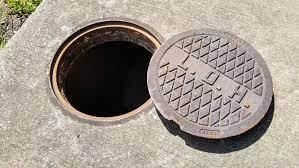open manhole-not overflowing-: (38, 13, 271, 142)
